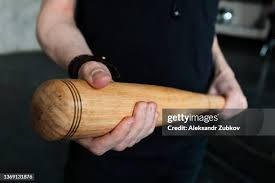baseball bat: (31, 77, 229, 143)
